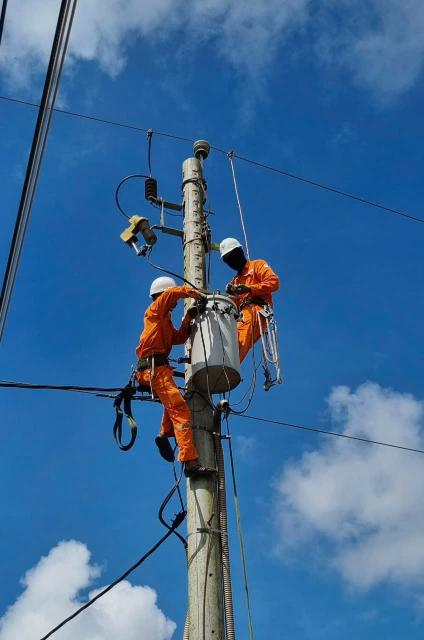harness: (117, 348, 190, 374), (223, 291, 287, 317)
helmet: (141, 264, 187, 311), (211, 231, 248, 265)
shoes: (174, 452, 229, 483), (150, 424, 181, 466)
